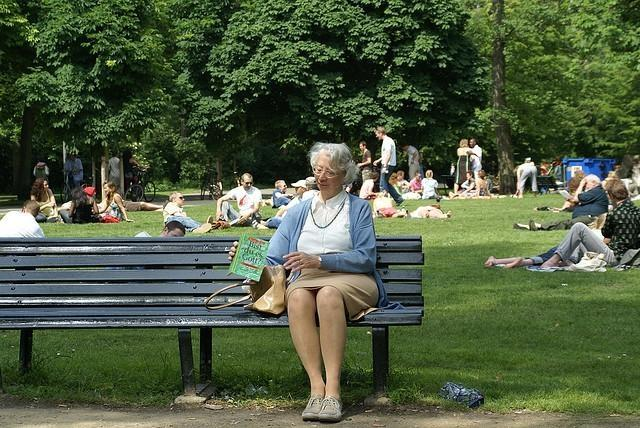bicycle: (128, 164, 155, 202), (59, 170, 78, 204)
